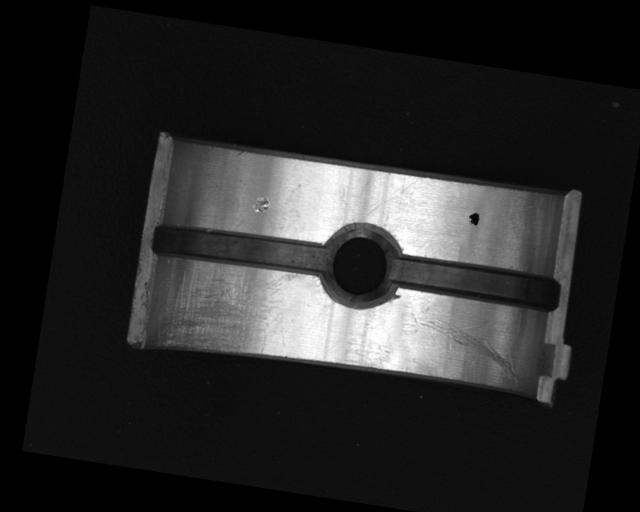blot: (467, 210, 481, 228)
bruise: (250, 194, 272, 216)
gap: (146, 217, 332, 284), (388, 251, 563, 314)
hole: (315, 220, 408, 312)
nick: (405, 307, 528, 384)
scratch: (153, 253, 299, 367)
